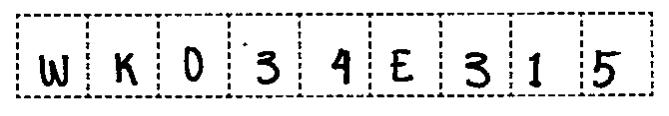0: (177, 42, 212, 87)
1: (520, 47, 550, 90)
3: (457, 47, 495, 93), (248, 45, 284, 89)
4: (323, 42, 358, 87)
5: (588, 46, 624, 92)
E: (384, 42, 422, 89)
K: (104, 45, 144, 90)
W: (33, 48, 75, 92)
